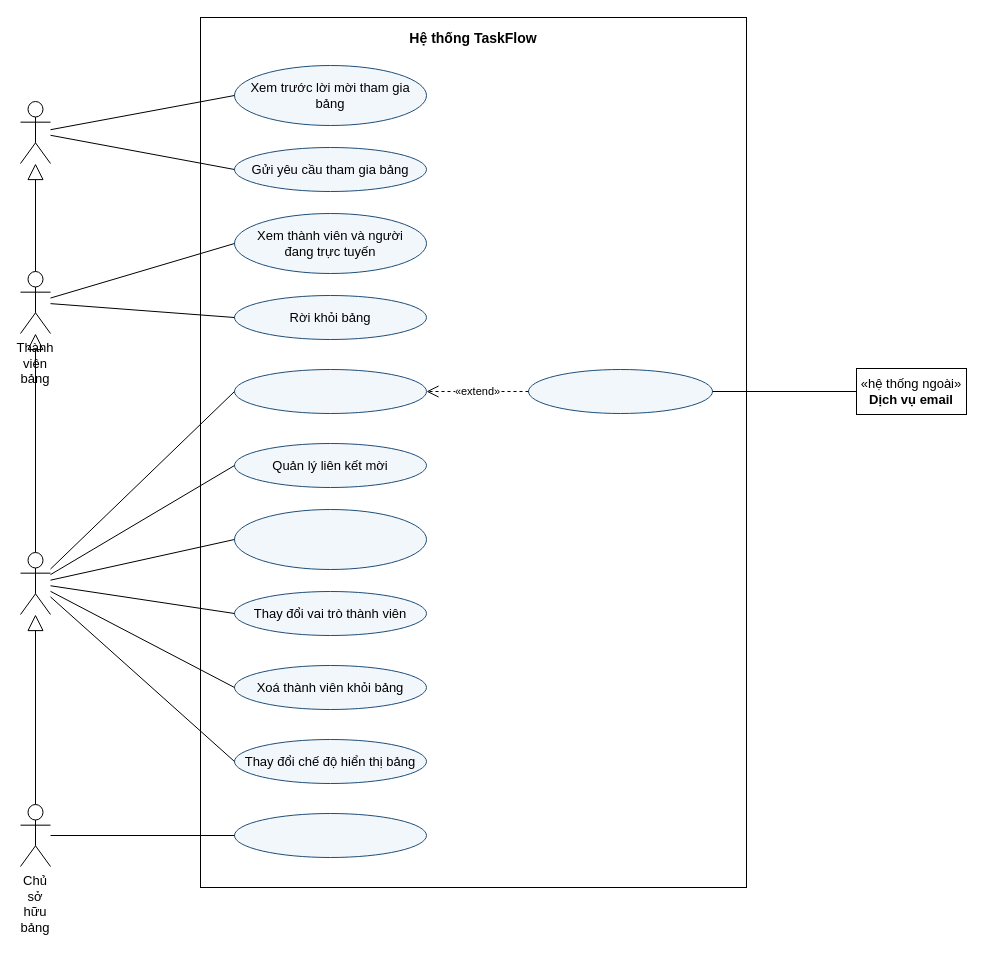
Some shapes in this 984 by 953 pixel diagram are drawn without their labels. Each missing label, with the centre of its shape:
Chuyển quyền sở hữu bảng: (x=330, y=835)
Duyệt / từ chối yêu cầu tham gia: (x=330, y=539)
Gửi lời mời qua email: (x=620, y=391)
Mời thành viên vào bảng: (x=330, y=391)
Người dùng: (x=35, y=132)
Quản trị viên bảng: (x=35, y=583)
